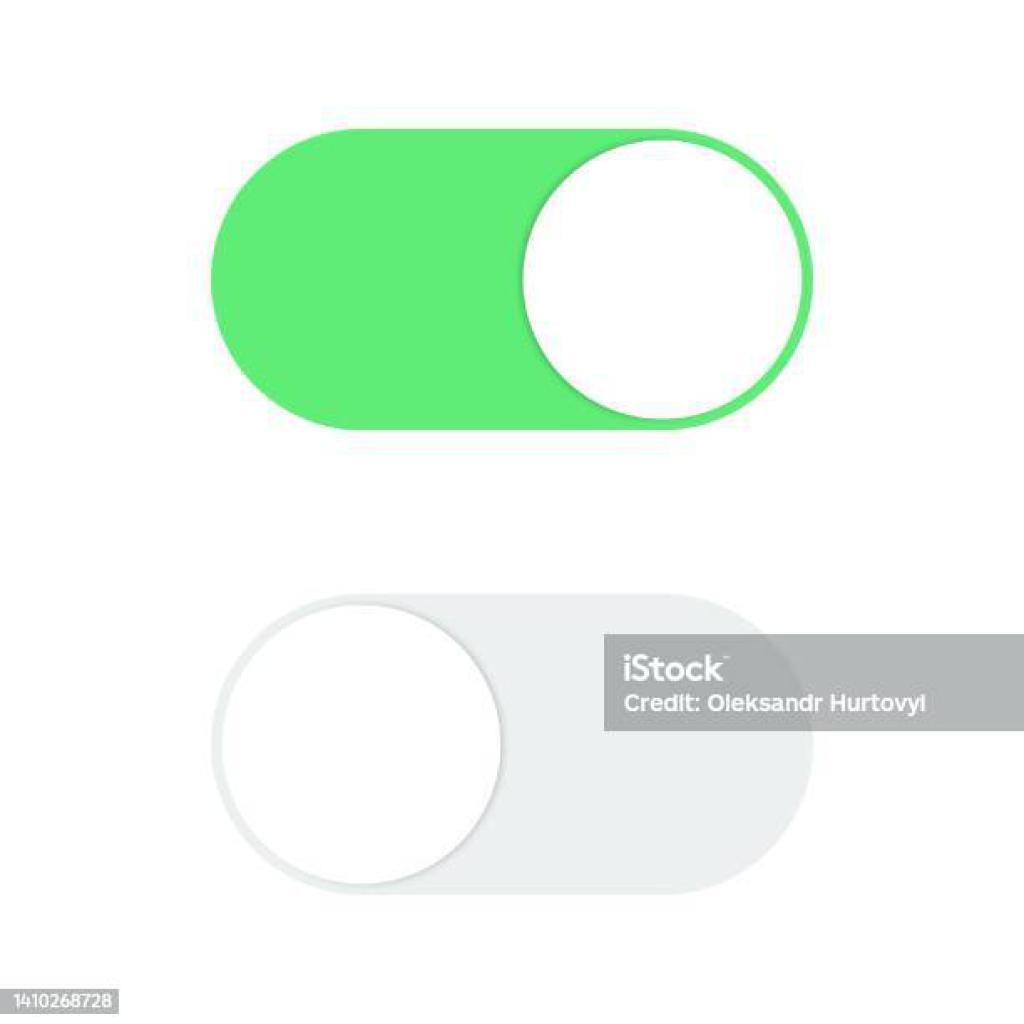switch: (194, 598, 822, 900), (210, 132, 812, 429)
